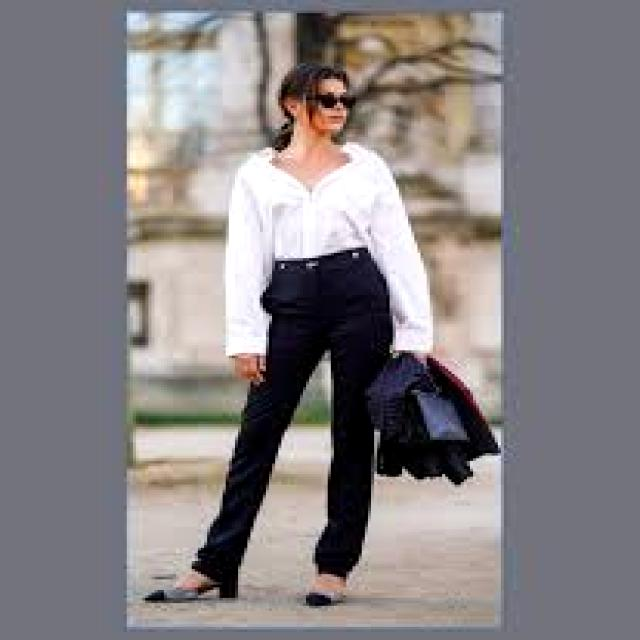foot-wear: (146, 572, 238, 603), (307, 588, 346, 605), (307, 590, 346, 605)
lower-wear: (192, 248, 392, 576)
top-wear: (223, 143, 432, 355)
